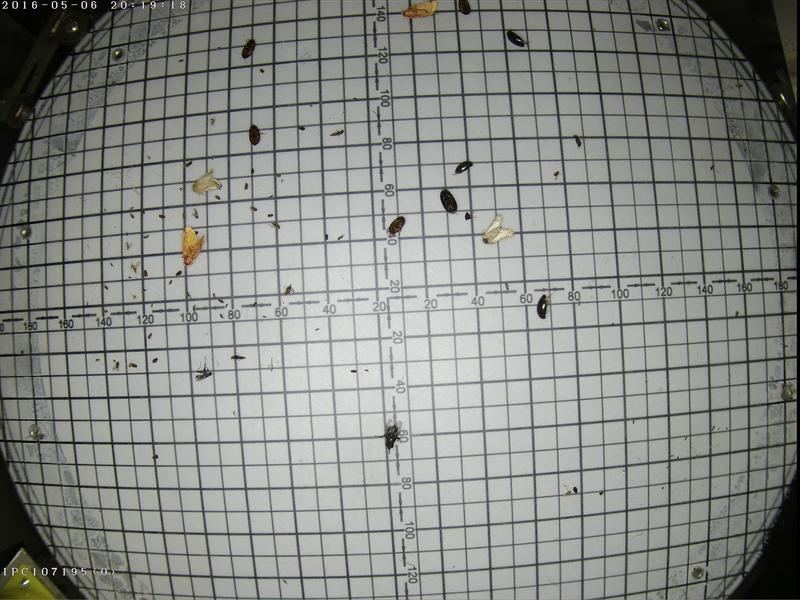Stem borer: (188, 165, 222, 195)
